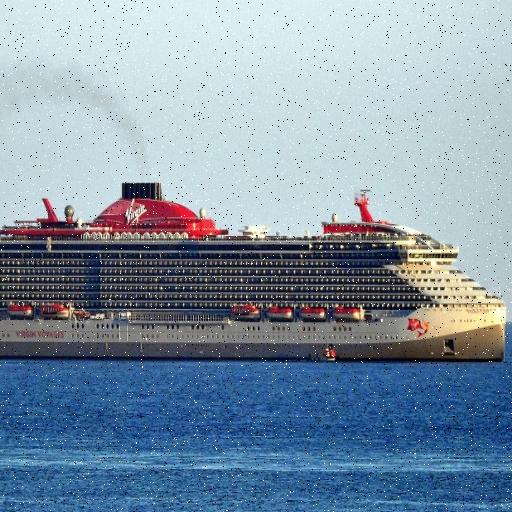cruises: (1, 177, 512, 370)
